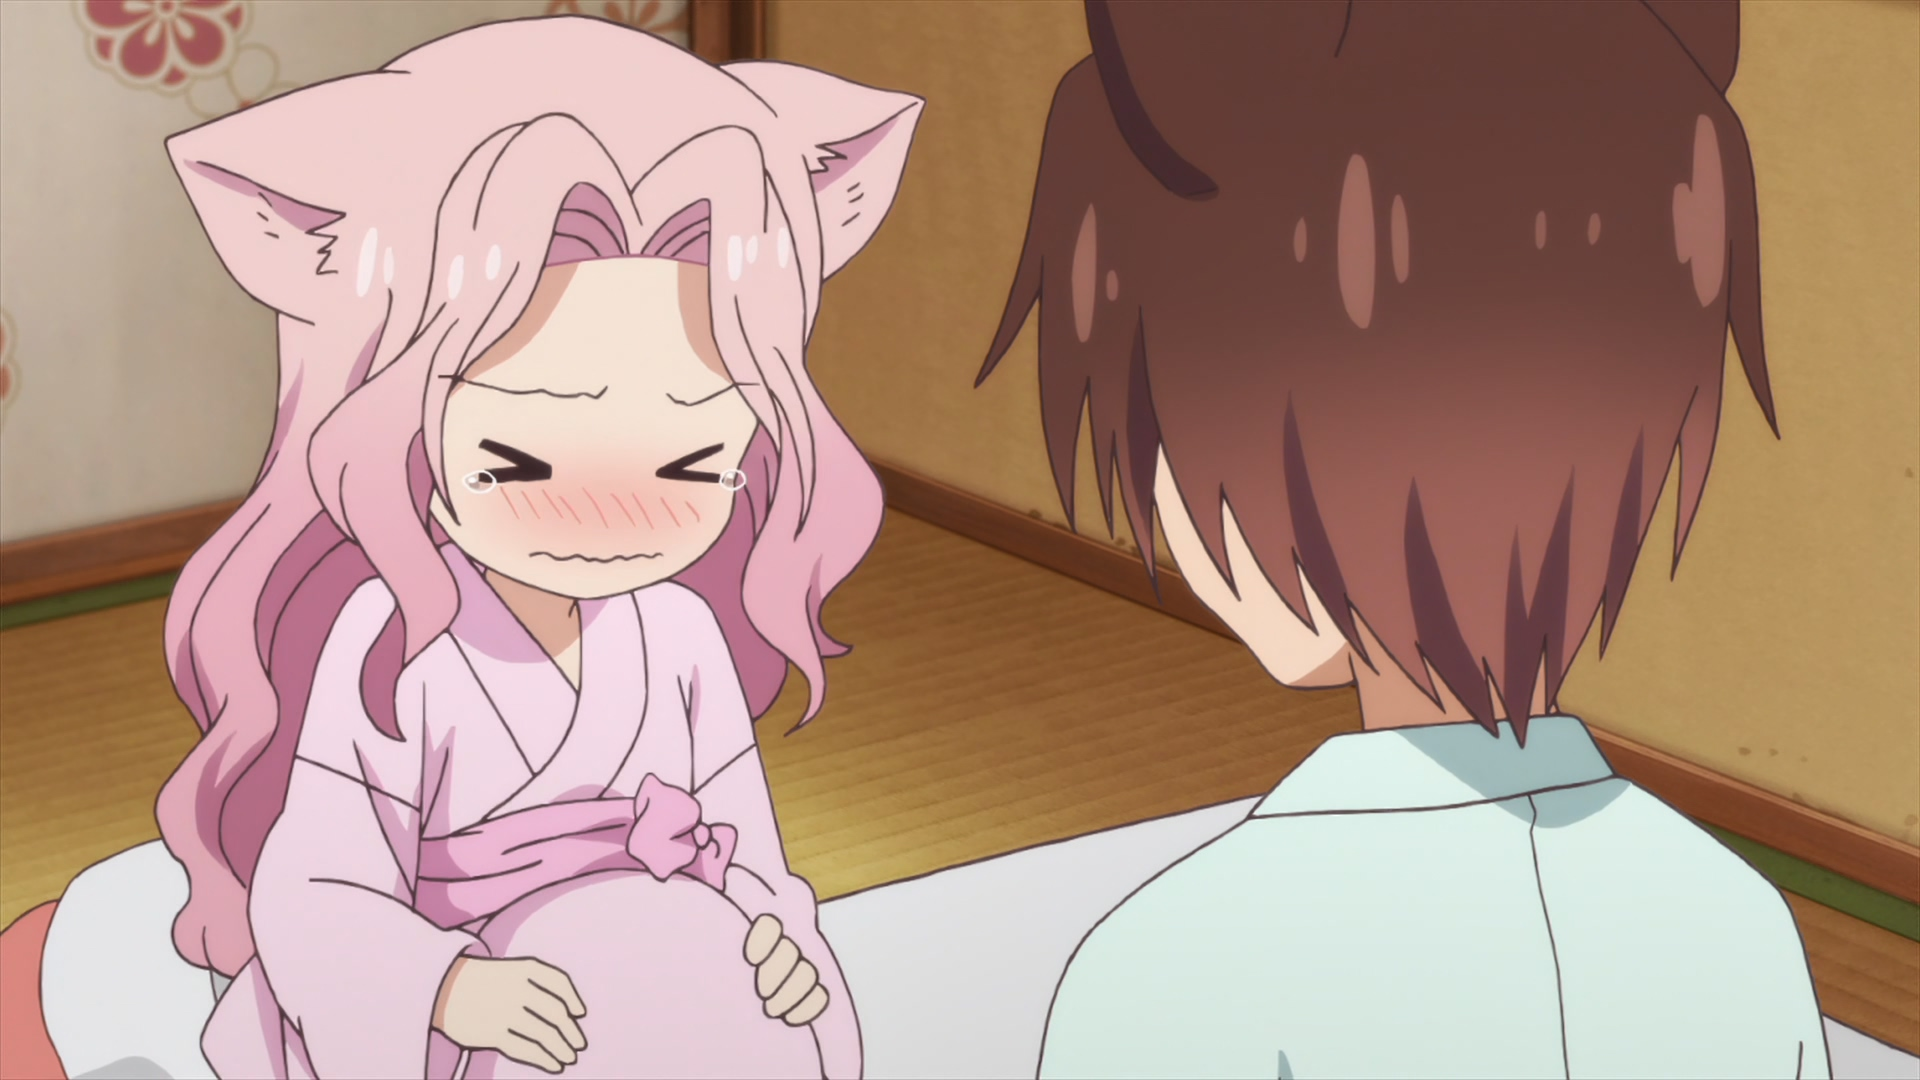枣: (972, 1, 1833, 1080)
莲: (153, 17, 924, 1080)
